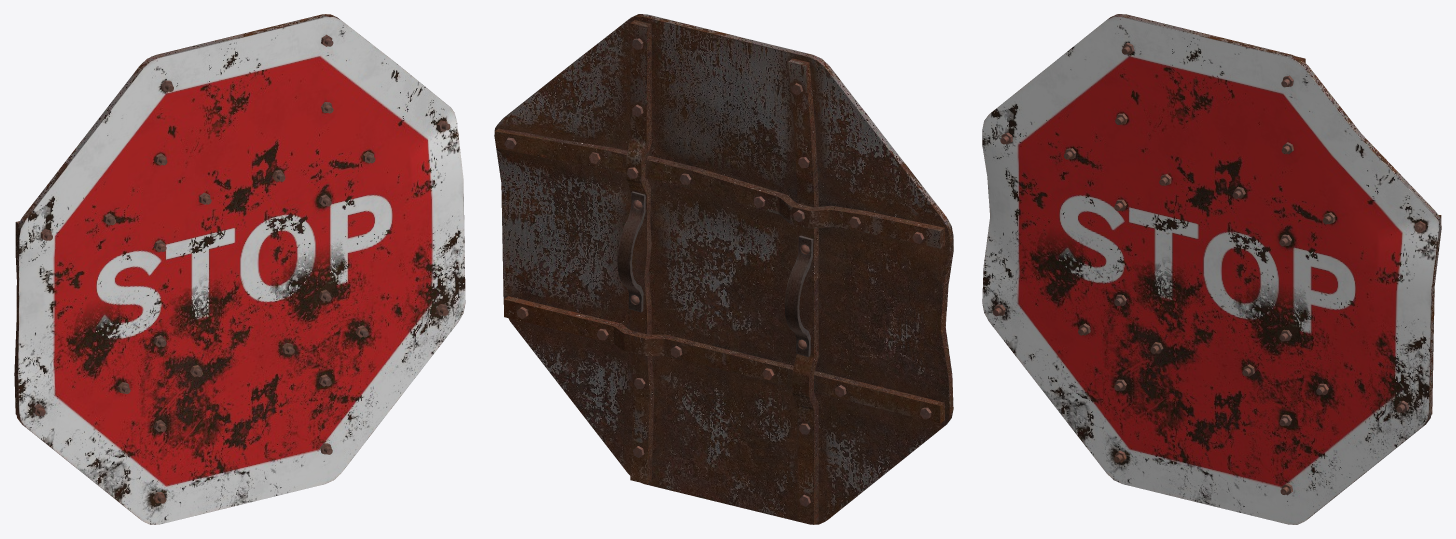
File: scrap_shield.glb
The picture shows the model from 3 angles, left to right: view 1: azimuth 30°, elevation 25°; view 2: azimuth 150°, elevation 25°; view 3: azimuth 330°, elevation 25°; orthographic projection.
Visible parts, largest first — view 1: polySurface26; view 2: polySurface26; view 3: polySurface26.
Part boxes in pixels (x1=…): polySurface26: x1=14, y1=14, x2=465, y2=524; polySurface26: x1=494, y1=14, x2=953, y2=524; polySurface26: x1=982, y1=14, x2=1441, y2=524.
Bounding box in the file's own units: 7.61 × 7.59 × 0.8229.
1 material, 1 textured.
